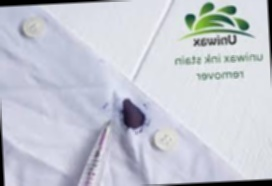ink: (120, 99, 146, 133)
